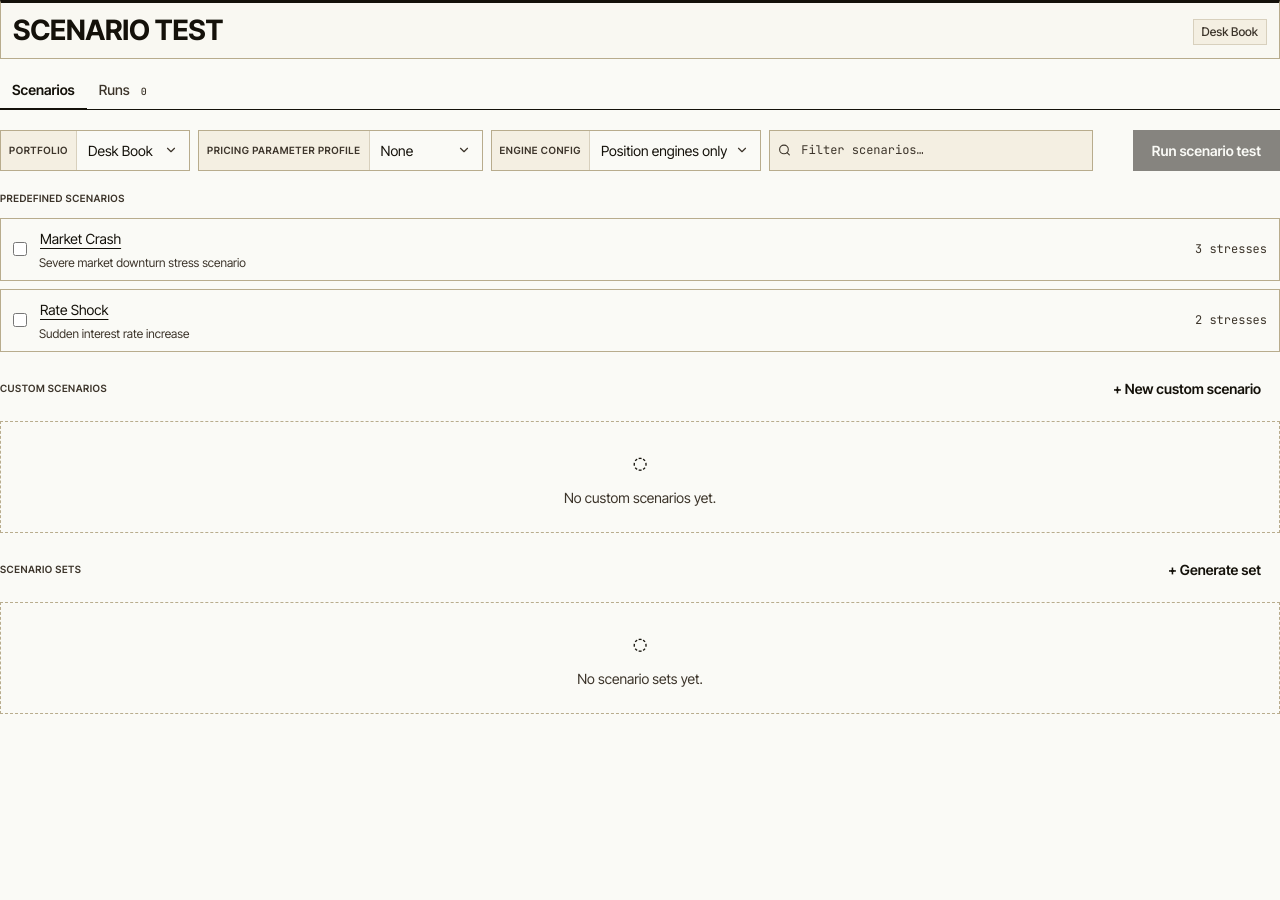
Test: ScenarioTestLive › opens a detail dialog when a predefined scenario name is clicked
The image size is (1280, 900).
Click the button with aria-label "details for market crash" at (81, 238), box [39,227,1187,250]
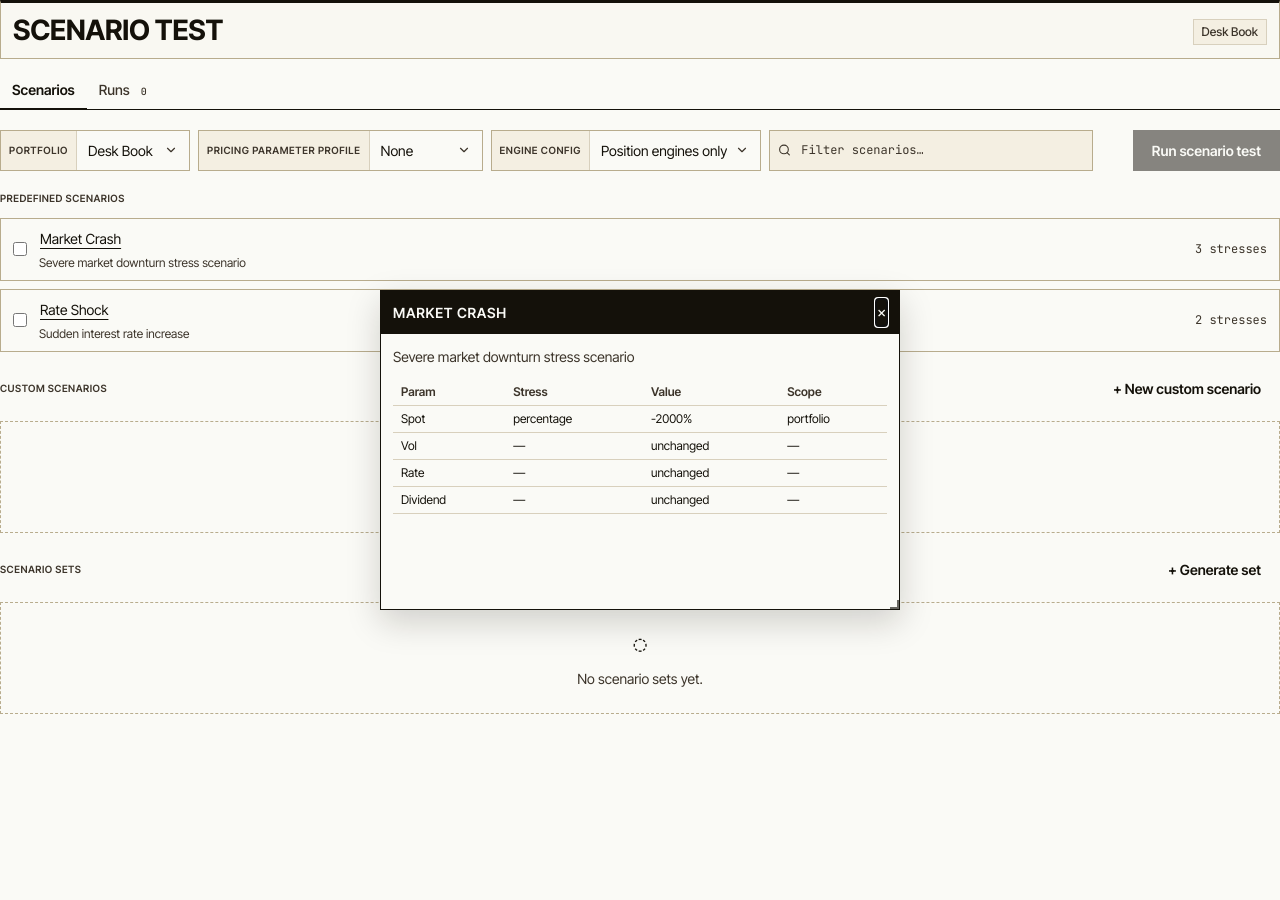
Expected: the dialog "Market Crash" is shown, [380,290,900,610]
Expected: the text "Spot" is shown, [393,406,505,432]
